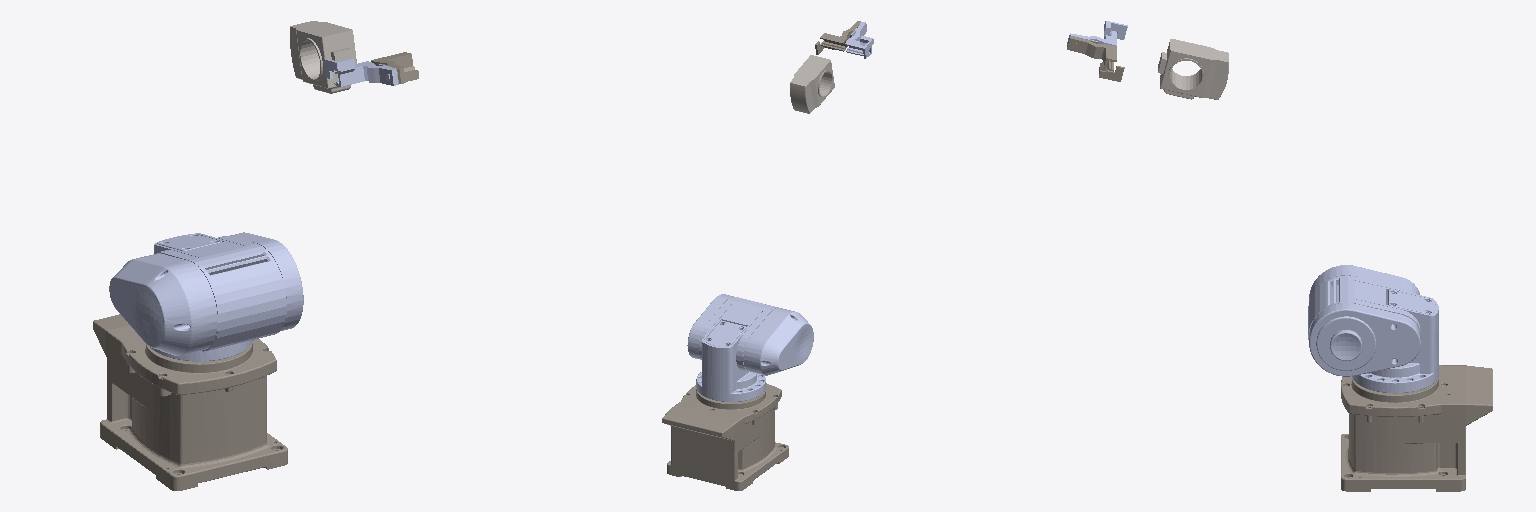
The robot description file, URDF, robot "robot_description":
<?xml version="1.0" encoding="utf-8"?>
<!-- This URDF was automatically created by SolidWorks to URDF Exporter! Originally created by [author] ([email redacted]) 
     Commit Version: 1.6.0-4-g7f85cfe  Build Version: 1.6.7995.38578
     For more information, please see http://wiki.ros.org/sw_urdf_exporter -->
<robot
  name="robot_description">
  
  <link name="world"/>
  <joint name="base_joint" type="fixed">
  <parent link="world"/>
  <child link="base_link"/>
  <origin rpy="0 0 0" xyz="0.0 0.0 0.17"/>
  </joint>

  <link
    name="base_link">
    <inertial>
      <origin
        xyz="-1.39077121530384E-06 0.0252334564653021 0.0913147831518379"
        rpy="0 0 0" />
      <mass
        value="6.38809399175893" />
      <inertia
        ixx="0.044253134336244"
        ixy="5.73120334716596E-07"
        ixz="6.0285744732684E-07"
        iyy="0.0326808549807236"
        iyz="-0.00206701679029979"
        izz="0.0428425867367847" />
    </inertial>
    <visual>
      <origin
        xyz="0 0 0"
        rpy="0 0 0" />
      <geometry>
        <mesh
          filename="package://robot_description/meshes/base_link.STL" />
      </geometry>
      <material
        name="">
        <color
          rgba="0.650980392156863 0.619607843137255 0.588235294117647 1" />
      </material>
    </visual>
    <collision>
      <origin
        xyz="0 0 0"
        rpy="0 0 0" />
      <geometry>
        <mesh
          filename="package://robot_description/meshes/base_link.STL" />
      </geometry>
    </collision>
  </link>

  <link
    name="link_1">
    <inertial>
      <origin
        xyz="-0.0459108378275545 0.0148885906295184 0.103785737116318"
        rpy="0 0 0" />
      <mass
        value="6.1422924246984" />
      <inertia
        ixx="0.0161938846987628"
        ixy="-4.2666447443014E-05"
        ixz="0.00445364092698756"
        iyy="0.0301710043585423"
        iyz="6.98931815398394E-07"
        izz="0.0244849168357048" />
    </inertial>
    <visual>
      <origin
        xyz="0 0 0"
        rpy="0 0 0" />
      <geometry>
        <mesh
          filename="package://robot_description/meshes/link_1.STL" />
      </geometry>
      <material
        name="">
        <color
          rgba="0.792156862745098 0.819607843137255 0.933333333333333 1" />
      </material>
    </visual>
    <collision>
      <origin
        xyz="0 0 0"
        rpy="0 0 0" />
      <geometry>
        <mesh
          filename="package://robot_description/meshes/link_1.STL" />
      </geometry>
    </collision>
  </link>
  <joint
    name="joint_1"
    type="revolute">
    <origin
      xyz="0 0 0.175"
      rpy="0 0 1.5708" />
    <parent
      link="base_link" />
    <child
      link="link_1" />
    <axis
      xyz="0 0 1" />
    <limit
      lower="0"
      upper="3.142"
      effort="300"
      velocity="3" />
  </joint>
  <link
    name="link_2">
    <inertial>
      <origin
        xyz="-4.83571810450112E-05 -0.174307508002041 -0.0349243341599043"
        rpy="0 0 0" />
      <mass
        value="2.48281663590646" />
      <inertia
        ixx="0.0497833412473321"
        ixy="-3.79326942590703E-06"
        ixz="3.91992586527801E-07"
        iyy="0.00261360494525241"
        iyz="-1.61774302029981E-05"
        izz="0.0517380702077168" />
    </inertial>
    <visual>
      <origin
        xyz="0 0 0"
        rpy="0 0 0" />
      <geometry>
        <mesh
          filename="package://robot_description/meshes/link_2.STL" />
      </geometry>
      <material
        name="">
        <color
          rgba="0.792156862745098 0.819607843137255 0.933333333333333 1" />
      </material>
    </visual>
    <collision>
      <origin
        xyz="0 0 0"
        rpy="0 0 0" />
      <geometry>
        <mesh
          filename="package://robot_description/meshes/link_2.STL" />
      </geometry>
    </collision>
  </link>
  <joint
    name="joint_2"
    type="revolute">
    <origin
      xyz="-0.089983 -0.09 0.12047"
      rpy="-1.5708 0 0" />
    <parent
      link="link_1" />
    <child
      link="link_2" />
    <axis
      xyz="0 0 -1" />
    <limit
      lower="-1.52"
      upper="1.52"
      effort="200"
      velocity="3" />
  </joint>
  <link
    name="link_3">
    <inertial>
      <origin
        xyz="0.037320223301333 -0.027141323498415 0.103036752175439"
        rpy="0 0 0" />
      <mass
        value="7.02290373419681" />
      <inertia
        ixx="0.0216860618757671"
        ixy="0.000112620386395565"
        ixz="-3.92750122540948E-05"
        iyy="0.0323021842810355"
        iyz="-2.06323348968286E-05"
        izz="0.0417729642510372" />
    </inertial>
    <visual>
      <origin
        xyz="0 0 0"
        rpy="0 0 0" />
      <geometry>
        <mesh
          filename="package://robot_description/meshes/link_3.STL" />
      </geometry>
      <material
        name="">
        <color
          rgba="0.792156862745098 0.819607843137255 0.933333333333333 1" />
      </material>
    </visual>
    <collision>
      <origin
        xyz="0 0 0"
        rpy="0 0 0" />
      <geometry>
        <mesh
          filename="package://robot_description/meshes/link_3.STL" />
      </geometry>
    </collision>
  </link>
  <joint
    name="joint_3"
    type="revolute">
    <origin
      xyz="0 -0.349983539489273 0"
      rpy="0 0 0" />
    <parent
      link="link_2" />
    <child
      link="link_3" />
    <axis
      xyz="0 0 -1" />
    <limit
      lower="-1.52"
      upper="1.52"
      effort="200"
      velocity="3" />
  </joint>
  <link
    name="link_4">
    <inertial>
      <origin
        xyz="-4.16993897194295E-05 -0.0034617894273514 0.109572414245508"
        rpy="0 0 0" />
      <mass
        value="1.75839958141945" />
      <inertia
        ixx="0.0123895257712281"
        ixy="1.78342945354324E-05"
        ixz="-0.00034108838476017"
        iyy="0.0113465000523975"
        iyz="0.00018561564619931"
        izz="0.0027144775181128" />
    </inertial>
    <visual>
      <origin
        xyz="0 0 0"
        rpy="0 0 0" />
      <geometry>
        <mesh
          filename="package://robot_description/meshes/link_4.STL" />
      </geometry>
      <material
        name="">
        <color
          rgba="0.792156862745098 0.819607843137255 0.933333333333333 1" />
      </material>
    </visual>
    <collision>
      <origin
        xyz="0 0 0"
        rpy="0 0 0" />
      <geometry>
        <mesh
          filename="package://robot_description/meshes/link_4.STL" />
      </geometry>
    </collision>
  </link>
  <joint
    name="joint_4"
    type="revolute">
    <origin
      xyz="-0.078935 -0.11074 0.09"
      rpy="1.5708 0 -1.3286" />
    <parent
      link="link_3" />
    <child
      link="link_4" />
    <axis
      xyz="0 0 1" />
    <limit
      lower="0"
      upper="3.142"
      effort="200"
      velocity="3" />
  </joint>
  <link
    name="link_5">
    <inertial>
      <origin
        xyz="0.0173021679608317 -0.00737161528487706 0.0299999995470816"
        rpy="0 0 0" />
      <mass
        value="0.350509293170825" />
      <inertia
        ixx="0.000333889263645697"
        ixy="2.85951214888281E-05"
        ixz="-8.93499784548971E-12"
        iyy="0.000534108158106546"
        iyz="-4.17891897290384E-12"
        izz="0.00072288458649242" />
    </inertial>
    <visual>
      <origin
        xyz="0 0 0"
        rpy="0 0 0" />
      <geometry>
        <mesh
          filename="package://robot_description/meshes/link_5.STL" />
      </geometry>
      <material
        name="">
        <color
          rgba="0.776470588235294 0.756862745098039 0.737254901960784 1" />
      </material>
    </visual>
    <collision>
      <origin
        xyz="0 0 0"
        rpy="0 0 0" />
      <geometry>
        <mesh
          filename="package://robot_description/meshes/link_5.STL" />
      </geometry>
    </collision>
  </link>
  <joint
    name="joint_5"
    type="revolute">
    <origin
      xyz="0.0015915 0.029738 0.22152"
      rpy="1.5708 1.3286 0" />
    <parent
      link="link_4" />
    <child
      link="link_5" />
    <axis
      xyz="0 0 1" />
    <limit
      lower="-1.52"
      upper="1.52"
      effort="200"
      velocity="3" />
  </joint>
  <link
    name="link_6">
    <inertial>
      <origin
        xyz="0.0257610024484669 -0.0235264426028713 0.0177131180765956"
        rpy="0 0 0" />
      <mass
        value="0.045658014107862" />
      <inertia
        ixx="2.56822027822675E-05"
        ixy="-1.22300311044686E-05"
        ixz="6.68602202266077E-06"
        iyy="2.85060531019413E-05"
        iyz="7.50536718443045E-06"
        izz="4.04862556216376E-05" />
    </inertial>
    <visual>
      <origin
        xyz="0 0 0"
        rpy="0 0 0" />
      <geometry>
        <mesh
          filename="package://robot_description/meshes/link_6.STL" />
      </geometry>
      <material
        name="">
        <color
          rgba="0.650980392156863 0.619607843137255 0.588235294117647 1" />
      </material>
    </visual>
    <collision>
      <origin
        xyz="0 0 0"
        rpy="0 0 0" />
      <geometry>
        <mesh
          filename="package://robot_description/meshes/link_6.STL" />
      </geometry>
    </collision>
  </link>
  <joint
    name="joint_6"
    type="prismatic">
    <origin
      xyz="-0.13597 0.054196 0.03"
      rpy="-1.5708 0 3.1416" />
    <parent
      link="link_5" />
    <child
      link="link_6" />
    <axis
      xyz="0 -1 0" />
    <limit
      lower="0"
      upper="0.04"
      effort="200"
      velocity="3" />
  </joint>
  <link
    name="link_7">
    <inertial>
      <origin
        xyz="0.0241418501748516 0.0286064426028703 0.0111598891414371"
        rpy="0 0 0" />
      <mass
        value="0.0456580141078622" />
      <inertia
        ixx="2.33821169373113E-05"
        ixy="1.43181503571547E-05"
        ixz="2.3155783747295E-06"
        iyy="2.85060531019454E-05"
        iyz="9.45921634866665E-07"
        izz="4.27863414665981E-05" />
    </inertial>
    <visual>
      <origin
        xyz="0 0 0"
        rpy="0 0 0" />
      <geometry>
        <mesh
          filename="package://robot_description/meshes/link_7.STL" />
      </geometry>
      <material
        name="">
        <color
          rgba="0.792156862745098 0.819607843137255 0.933333333333333 1" />
      </material>
    </visual>
    <collision>
      <origin
        xyz="0 0 0"
        rpy="0 0 0" />
      <geometry>
        <mesh
          filename="package://robot_description/meshes/link_7.STL" />
      </geometry>
    </collision>
  </link>
  <joint
    name="joint_7"
    type="prismatic">
    <origin
      xyz="-0.13597 0.054196 0.03"
      rpy="-1.5708 0 3.1416" />
    <parent
      link="link_5" />
    <child
      link="link_7" />
    <axis
      xyz="0 -1 0" />
    <limit
      lower="-0.04"
      upper="0"
      effort="200"
      velocity="3" />
  </joint>
  <link
    name="End_effector">
    <inertial>
      <origin
        xyz="-0.094822122526006 0.0234283680467742 0.0299999996011627"
        rpy="0 0 0" />
      <mass
        value="0.41518510057696" />
      <inertia
        ixx="0.000416948333907988"
        ixy="-9.17761333941811E-06"
        ixz="-7.8288360165276E-07"
        iyy="0.000382071152321476"
        iyz="-3.16858114308254E-06"
        izz="0.000263259321756285" />
    </inertial>
    <visual>
      <origin
        xyz="0 0 0"
        rpy="0 0 0" />
      <geometry>
        <mesh
          filename="package://robot_description/meshes/End_effector.STL" />
      </geometry>
      <material
        name="">
        <color
          rgba="0.792156862745098 0.819607843137255 0.933333333333333 1" />
      </material>
    </visual>
    <collision>
      <origin
        xyz="0 0 0"
        rpy="0 0 0" />
      <geometry>
        <mesh
          filename="package://robot_description/meshes/End_effector.STL" />
      </geometry>
    </collision>
  </link>
  <joint
    name="joint_end_effector"
    type="fixed">
    <origin
      xyz="0 0 0"
      rpy="0 0 0" />
    <parent
      link="link_5" />
    <child
      link="End_effector" />
    <axis
      xyz="0 0 1" />
  </joint>
  
</robot>

--- Facts derived from the render (not from the file) ---
Views: 3 orthographic renders of the robot side by side, from view 1: azimuth 30°, elevation 25°; view 2: azimuth 150°, elevation 25°; view 3: azimuth 270°, elevation 25°.
Robot: robot_description — 10 links, 9 joints (5 revolute, 2 prismatic, 2 fixed); root link world; default pose: all joints at 0.
Visible links, largest first — view 1: base_link, link_1, link_5, link_7, link_6; view 2: link_1, base_link, link_5, link_7, link_6; view 3: base_link, link_1, link_5, link_6, link_7.
Boxes of the visible links, box(x1,y1,x2,y2) form: base_link: box(93, 314, 287, 490); link_1: box(109, 232, 303, 361); link_5: box(290, 21, 356, 93); link_7: box(323, 58, 398, 86); link_6: box(371, 52, 418, 83); link_1: box(687, 294, 813, 401); base_link: box(662, 383, 788, 490); link_5: box(790, 55, 834, 113); link_7: box(845, 22, 873, 58); link_6: box(815, 21, 860, 54); base_link: box(1341, 365, 1492, 491); link_1: box(1308, 265, 1438, 392); link_5: box(1158, 39, 1228, 99); link_6: box(1067, 36, 1124, 81); link_7: box(1067, 21, 1127, 46).
Bounding box of the posed robot: 0.245 × 0.7832 × 0.8761 m (x, y, z).
Meshes: 9 distinct files referenced, 5 mesh visuals loaded (5 binary STL); not drawn: 4 (reference not matched to a file when rendering).